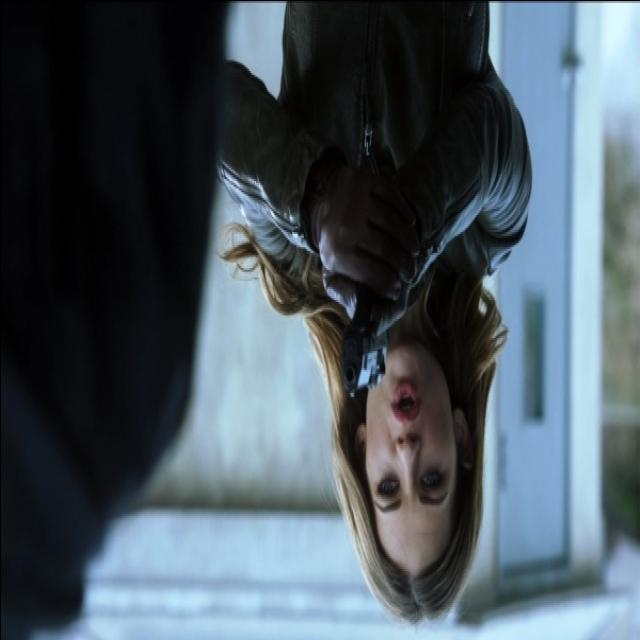weapons: (332, 212, 400, 406)
